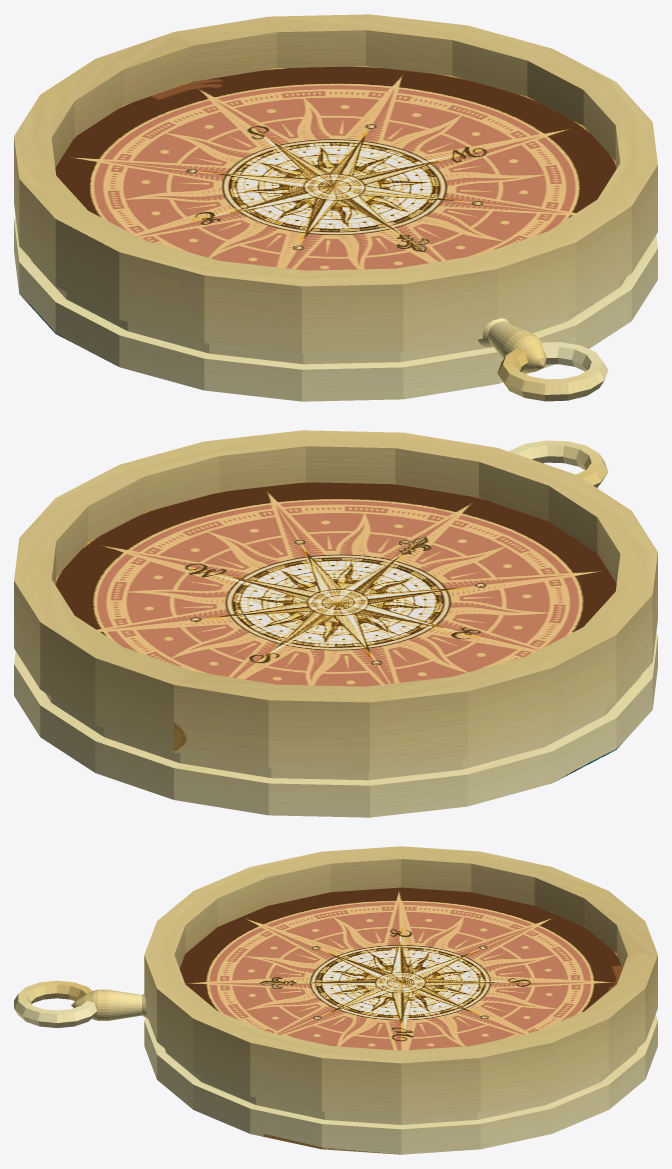
The model's file is OBJ_Brujula.fbx.
3 views of the same model, one above another, from view 1: azimuth 30°, elevation 25°; view 2: azimuth 150°, elevation 25°; view 3: azimuth 270°, elevation 25° (orthographic). The views are drawn at different scales.
Visible parts, largest first — view 1: Base de brujula, Llavero; view 2: Base de brujula, Llavero; view 3: Base de brujula, Llavero.
Boxes of the visible parts, x1,y1,x2,y2 form: Base de brujula: (14, 14, 657, 401); Llavero: (478, 318, 608, 401); Base de brujula: (14, 430, 657, 817); Llavero: (509, 440, 608, 487); Base de brujula: (144, 846, 657, 1154); Llavero: (14, 980, 147, 1027).
Bounding box in the file's own units: 188 × 36.88 × 236.
